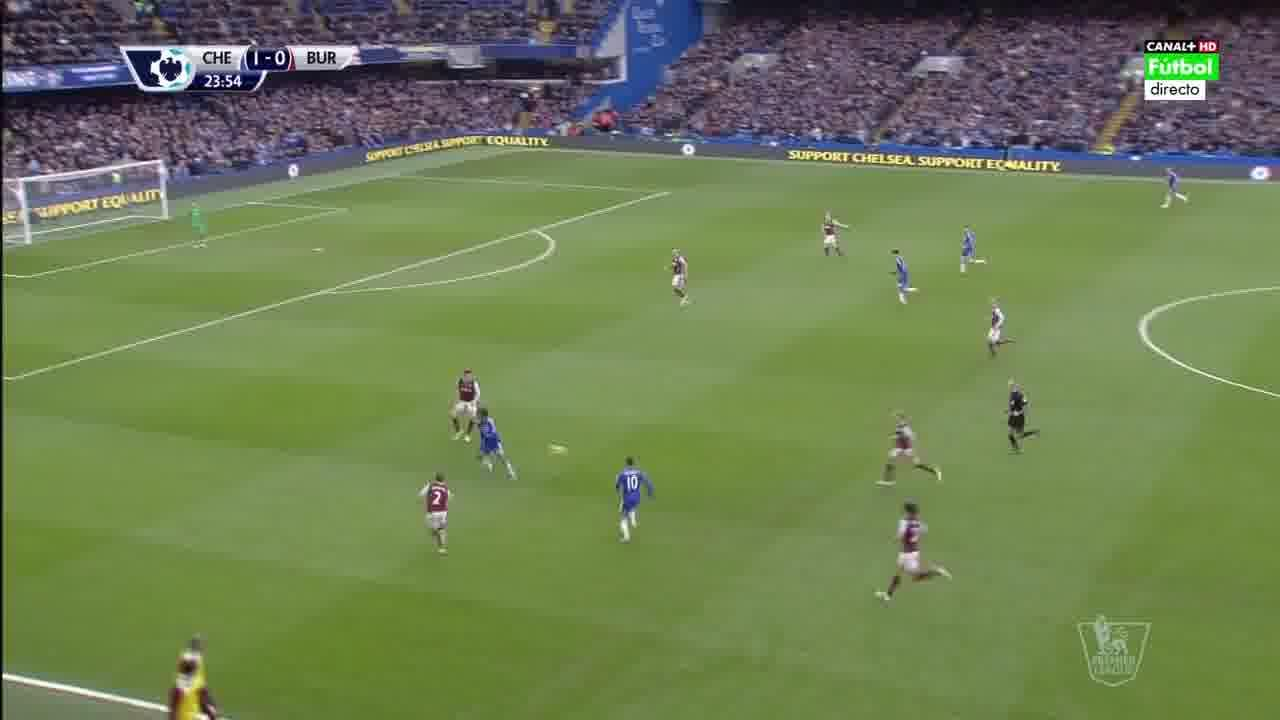football: (548, 443, 568, 456)
